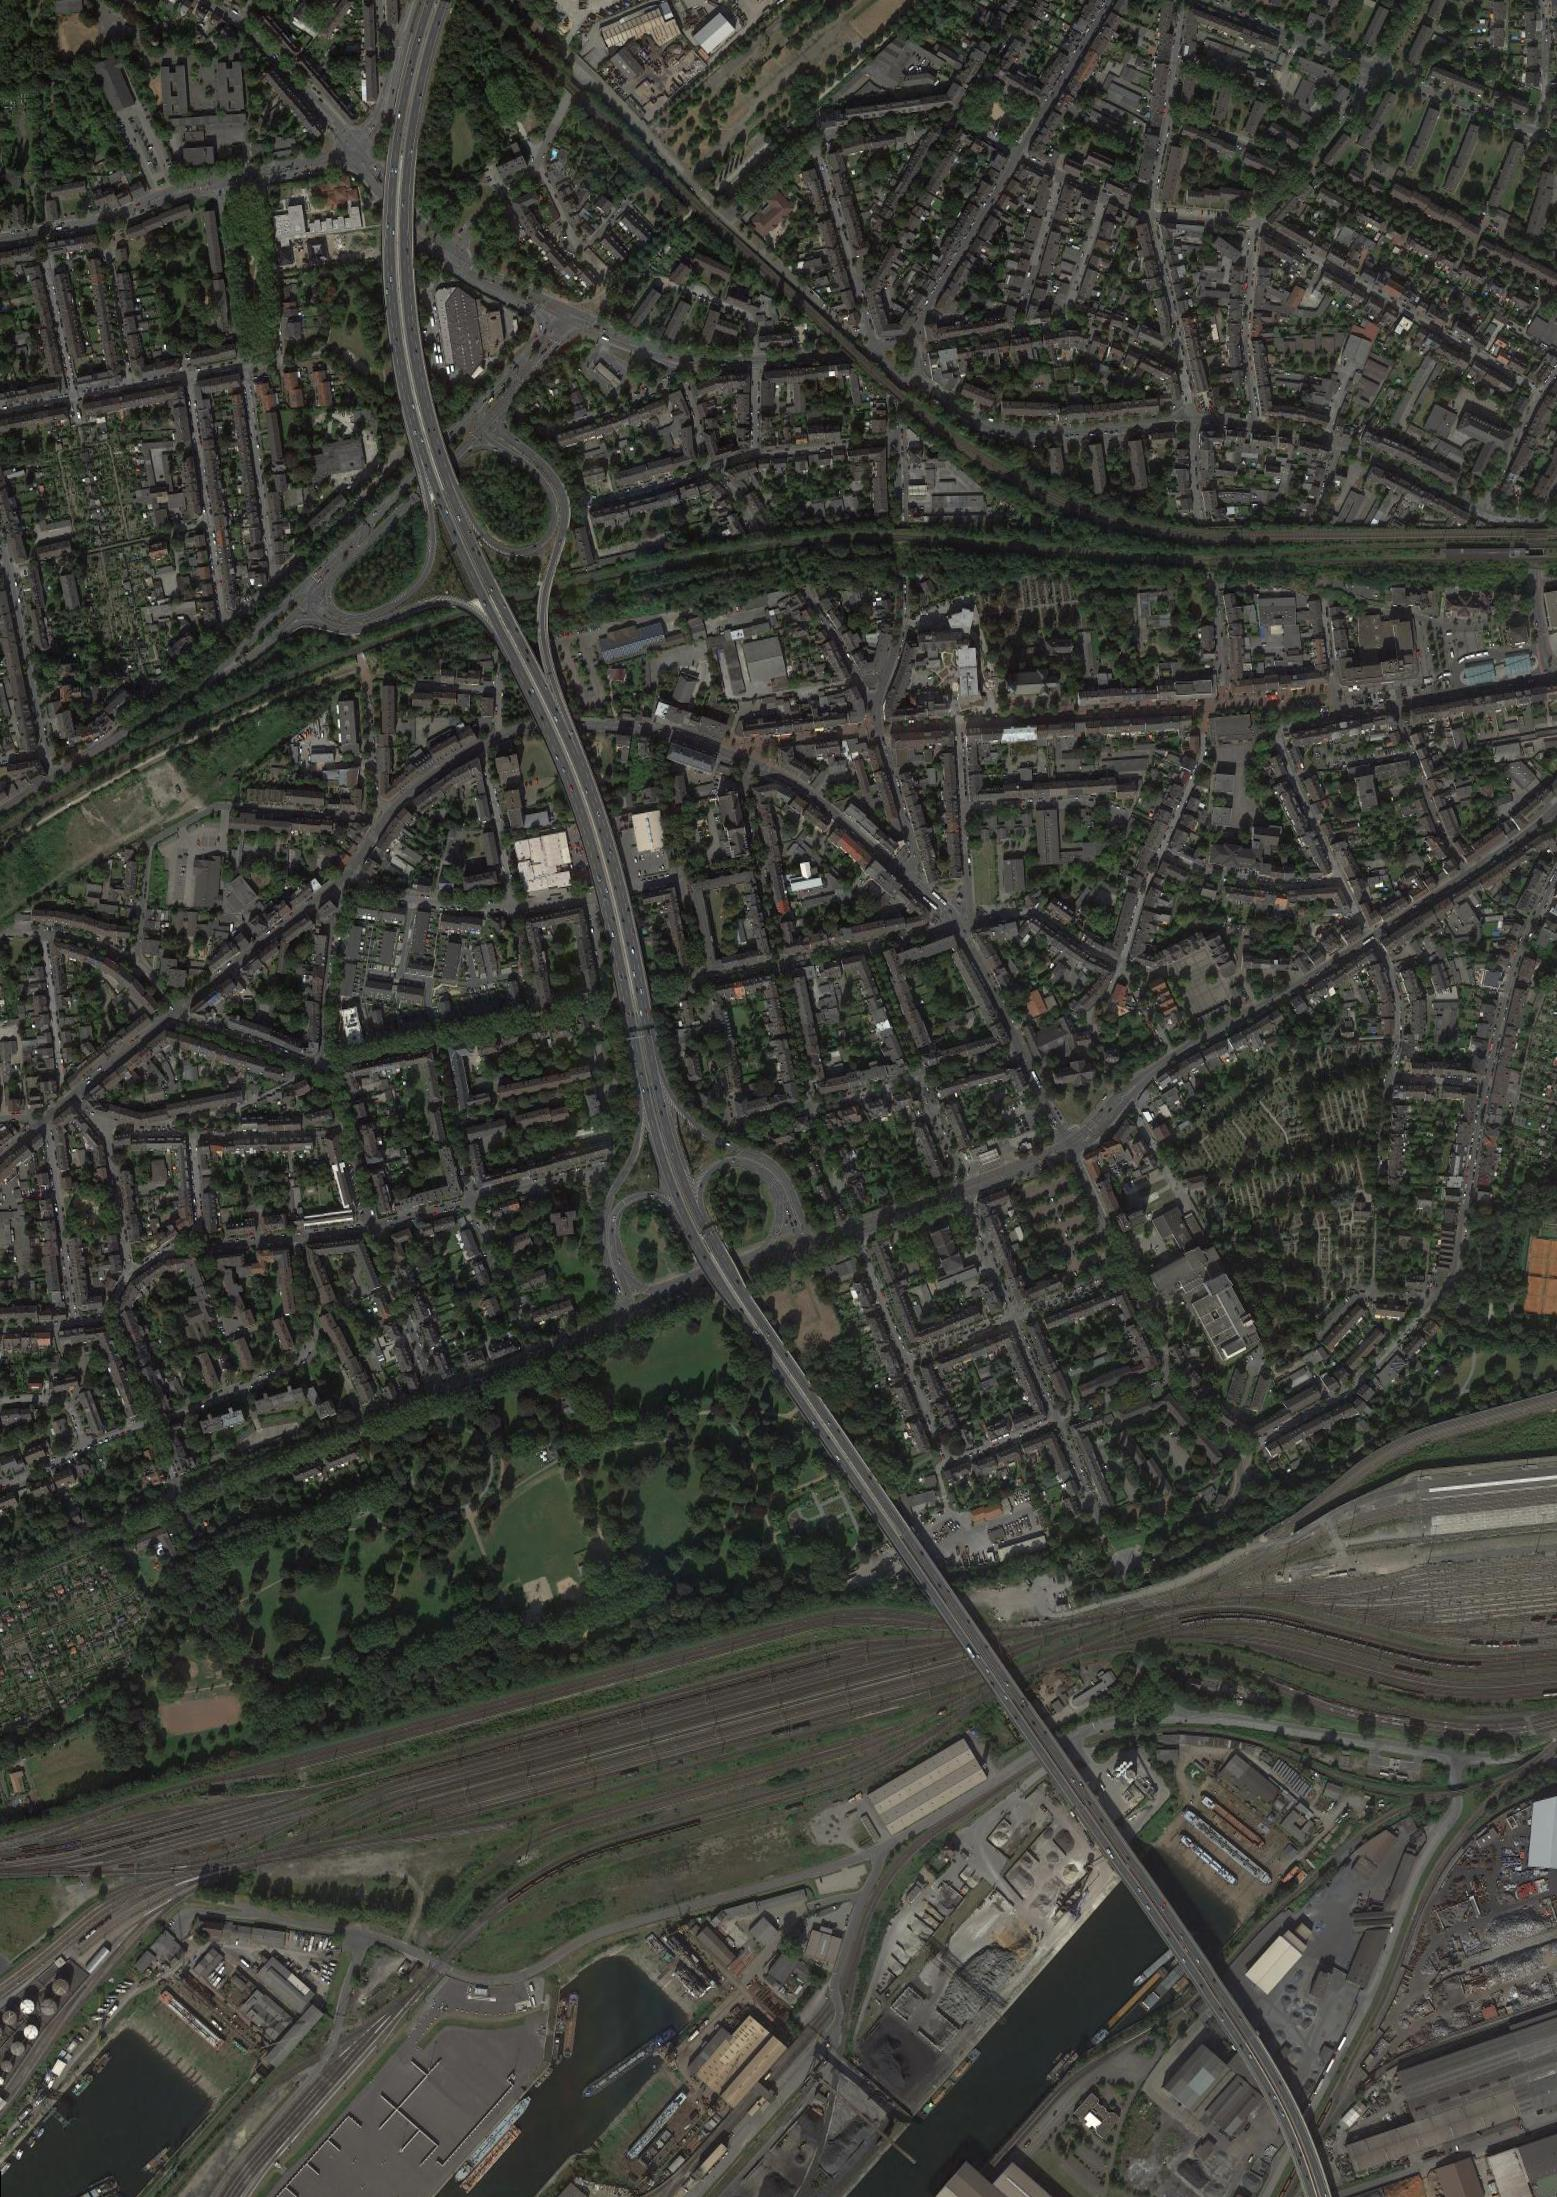ship: (453, 2094, 532, 2185), (580, 2027, 677, 2099), (1181, 1809, 1272, 1885), (918, 2049, 981, 2118), (460, 2125, 522, 2192), (1178, 1835, 1240, 1889), (1131, 1948, 1176, 1990), (563, 1991, 580, 2059), (1045, 2047, 1077, 2082), (142, 2145, 172, 2173), (71, 2072, 93, 2096), (532, 2066, 554, 2089), (91, 2049, 111, 2072)
